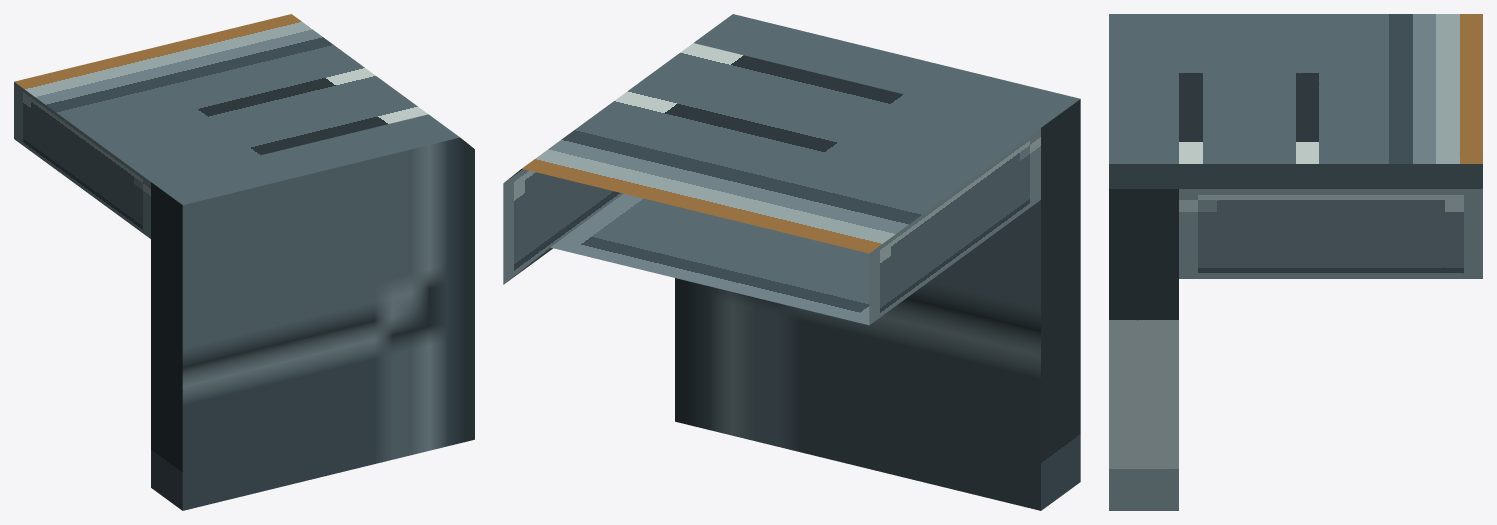
Rendered from casing_d7_rear_x1_y3.obj.
3 views of the same model, side by side, from view 1: azimuth 30°, elevation 25°; view 2: azimuth 150°, elevation 25°; view 3: azimuth 270°, elevation 25° (orthographic). The views are drawn at different scales.
Visible parts, largest first — view 1: d7_rear_x1_y3; view 2: d7_rear_x1_y3; view 3: d7_rear_x1_y3.
Boxes of the visible parts, <box> form: d7_rear_x1_y3: <box>14,14,474,510</box>; d7_rear_x1_y3: <box>503,14,1080,510</box>; d7_rear_x1_y3: <box>1109,14,1482,510</box>.
Size of the model in its own units: 1 by 1 by 1.
